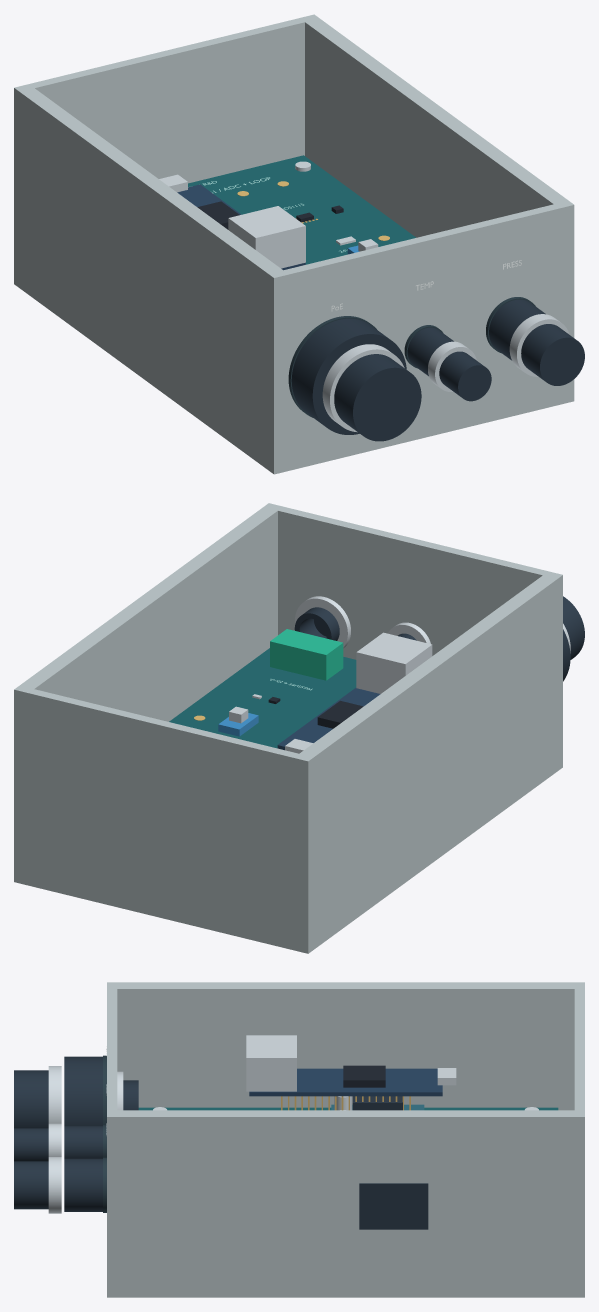
File: B1_lid_off.glb
3 views of the same model, one above another, from view 1: azimuth 30°, elevation 25°; view 2: azimuth 150°, elevation 25°; view 3: azimuth 270°, elevation 25° (orthographic). The views are drawn at different scales.
Parts seen in each view (by area): view 1: 01_Polycarbonate_enclosure_surrogate, 20_Main_B1_carrier_PCB_NOT_ROUTED, 74_POE_ETH_external_male_cord, 70_POE_ETH_female_panel_socket, 33_RJ45_socket, 74_LOOP_4_20MA_external_male_cord, 74_TEMP_external_male_cord, 70_LOOP_4_20MA_female_panel_socket, 75_POE_ETH_threaded_lock_ring, 70_TEMP_female_panel_socket, 75_LOOP_4_20MA_threaded_lock_ring, 75_TEMP_threaded_lock_ring (+1 smaller); view 2: 01_Polycarbonate_enclosure_surrogate, 20_Main_B1_carrier_PCB_NOT_ROUTED, 33_RJ45_socket, 60_J1_PRESSURE_LOOP_2PIN, 30_Waveshare_ESP32_S3_ETH_surrogate, 73_LOOP_4_20MA_panel_rear_barrel, 72_LOOP_4_20MA_internal_locknut, 74_POE_ETH_external_male_cord, 32_ESP32_RF_chip; view 3: 01_Polycarbonate_enclosure_surrogate, 30_Waveshare_ESP32_S3_ETH_surrogate, 76_AUX_RESERVED_UNDRILLED_WALL_MARKER, 33_RJ45_socket, 70_POE_ETH_female_panel_socket, 70_LOOP_4_20MA_female_panel_socket, 74_POE_ETH_external_male_cord, 74_LOOP_4_20MA_external_male_cord, 70_TEMP_female_panel_socket, 74_TEMP_external_male_cord, 20_Main_B1_carrier_PCB_NOT_ROUTED, 32_ESP32_RF_chip (+5 smaller).
Boxes of the visible parts, x1,y1,x2,y2 form: 01_Polycarbonate_enclosure_surrogate: [14, 14, 574, 474]; 20_Main_B1_carrier_PCB_NOT_ROUTED: [188, 155, 415, 264]; 74_POE_ETH_external_male_cord: [334, 354, 421, 441]; 70_POE_ETH_female_panel_socket: [291, 318, 406, 434]; 33_RJ45_socket: [228, 206, 305, 268]; 74_LOOP_4_20MA_external_male_cord: [521, 324, 584, 385]; 74_TEMP_external_male_cord: [439, 351, 491, 401]; 70_LOOP_4_20MA_female_panel_socket: [489, 299, 545, 360]; 75_POE_ETH_threaded_lock_ring: [322, 344, 404, 432]; 70_TEMP_female_panel_socket: [407, 327, 453, 376]; 75_LOOP_4_20MA_threaded_lock_ring: [509, 314, 569, 376]; 75_TEMP_threaded_lock_ring: [428, 341, 476, 391]; 01_Polycarbonate_enclosure_surrogate: [14, 503, 562, 953]; 20_Main_B1_carrier_PCB_NOT_ROUTED: [169, 648, 356, 748]; 33_RJ45_socket: [356, 632, 432, 693]; 60_J1_PRESSURE_LOOP_2PIN: [270, 629, 343, 680]; 30_Waveshare_ESP32_S3_ETH_surrogate: [277, 687, 380, 750]; 73_LOOP_4_20MA_panel_rear_barrel: [294, 607, 339, 640]; 72_LOOP_4_20MA_internal_locknut: [295, 596, 350, 648]; 74_POE_ETH_external_male_cord: [563, 596, 584, 659]; 32_ESP32_RF_chip: [317, 700, 363, 728]; 01_Polycarbonate_enclosure_surrogate: [107, 982, 584, 1297]; 30_Waveshare_ESP32_S3_ETH_surrogate: [249, 1068, 442, 1096]; 76_AUX_RESERVED_UNDRILLED_WALL_MARKER: [359, 1183, 428, 1229]; 33_RJ45_socket: [246, 1035, 296, 1091]; 70_POE_ETH_female_panel_socket: [64, 1056, 102, 1125]; 70_LOOP_4_20MA_female_panel_socket: [64, 1158, 102, 1211]; 74_POE_ETH_external_male_cord: [14, 1070, 48, 1128]; 74_LOOP_4_20MA_external_male_cord: [14, 1161, 48, 1209]; 70_TEMP_female_panel_socket: [64, 1126, 102, 1158]; 74_TEMP_external_male_cord: [14, 1128, 48, 1161]; 20_Main_B1_carrier_PCB_NOT_ROUTED: [138, 1107, 558, 1110]; 32_ESP32_RF_chip: [343, 1065, 385, 1087].
Bounding box in the file's own units: 121 × 75 × 215.
